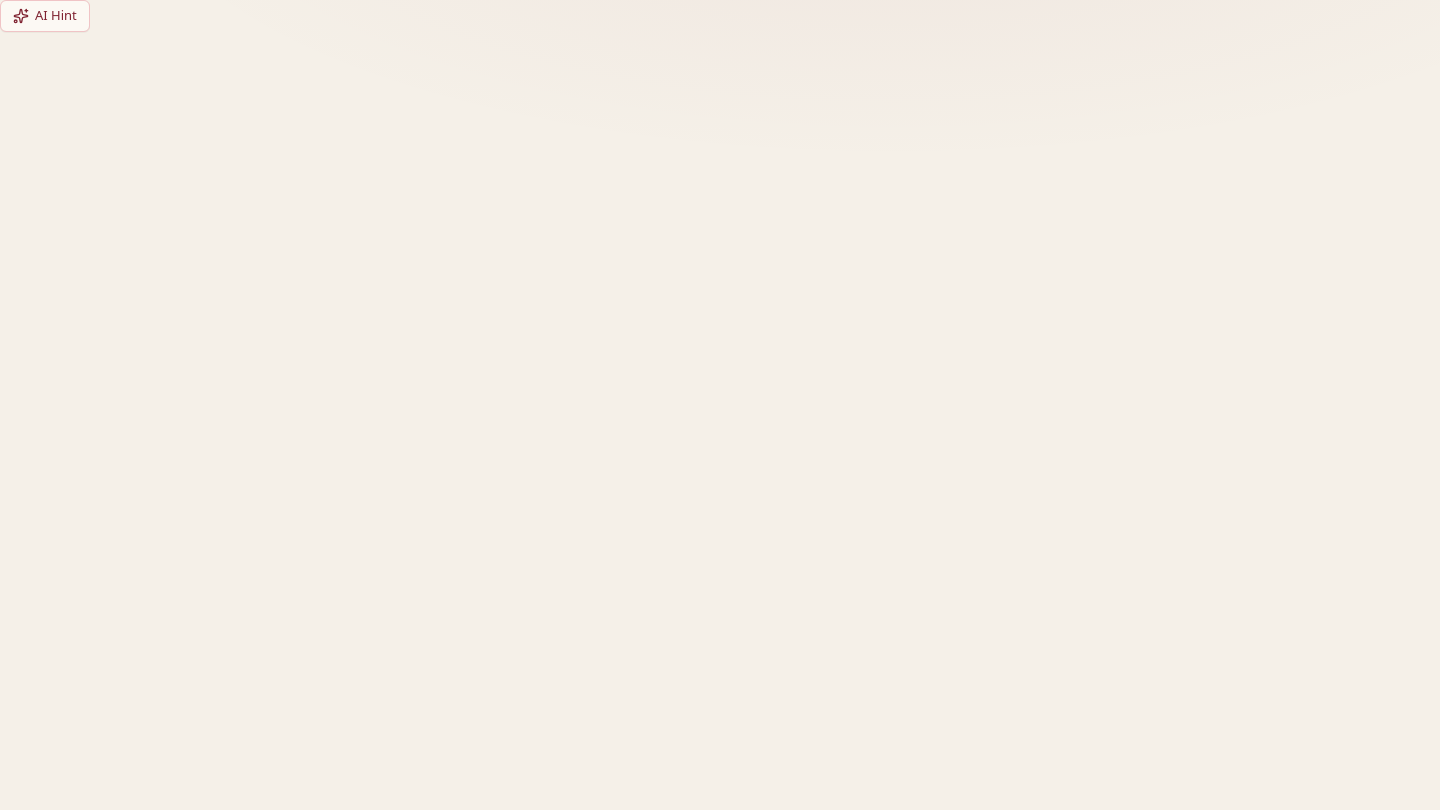
it: a lab’s AI Hint (Phase 7E) › after a failed attempt, sends the lab’s id and the question — nothing else — and shows the hint
Click the button "AI Hint".
click(45, 16)  # box [0, 0, 90, 32]
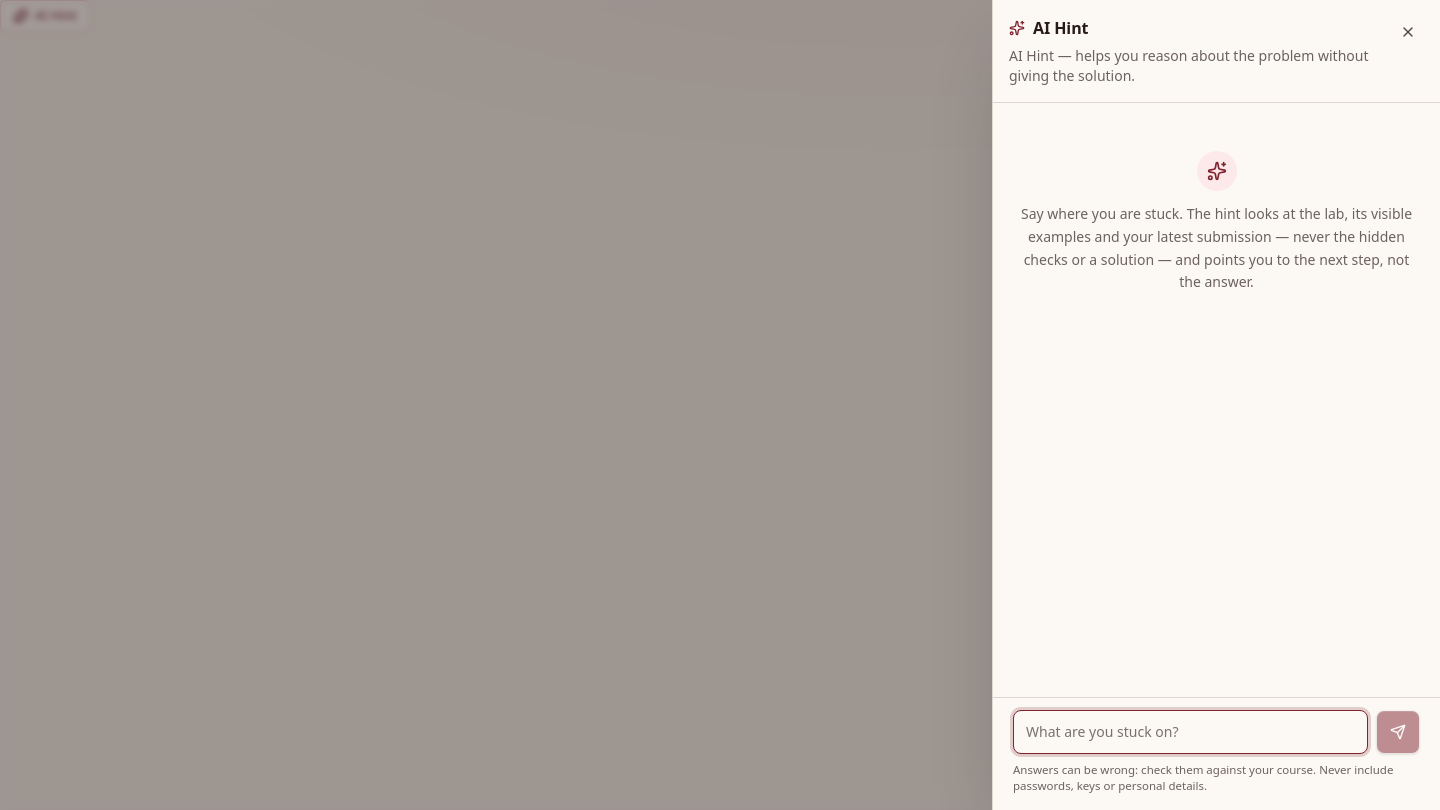
Type "Why is my sum wrong?" into the text box named "What you are stuck on".
click(1190, 732); type("Why is my sum wrong?")  # box [1013, 710, 1368, 754]
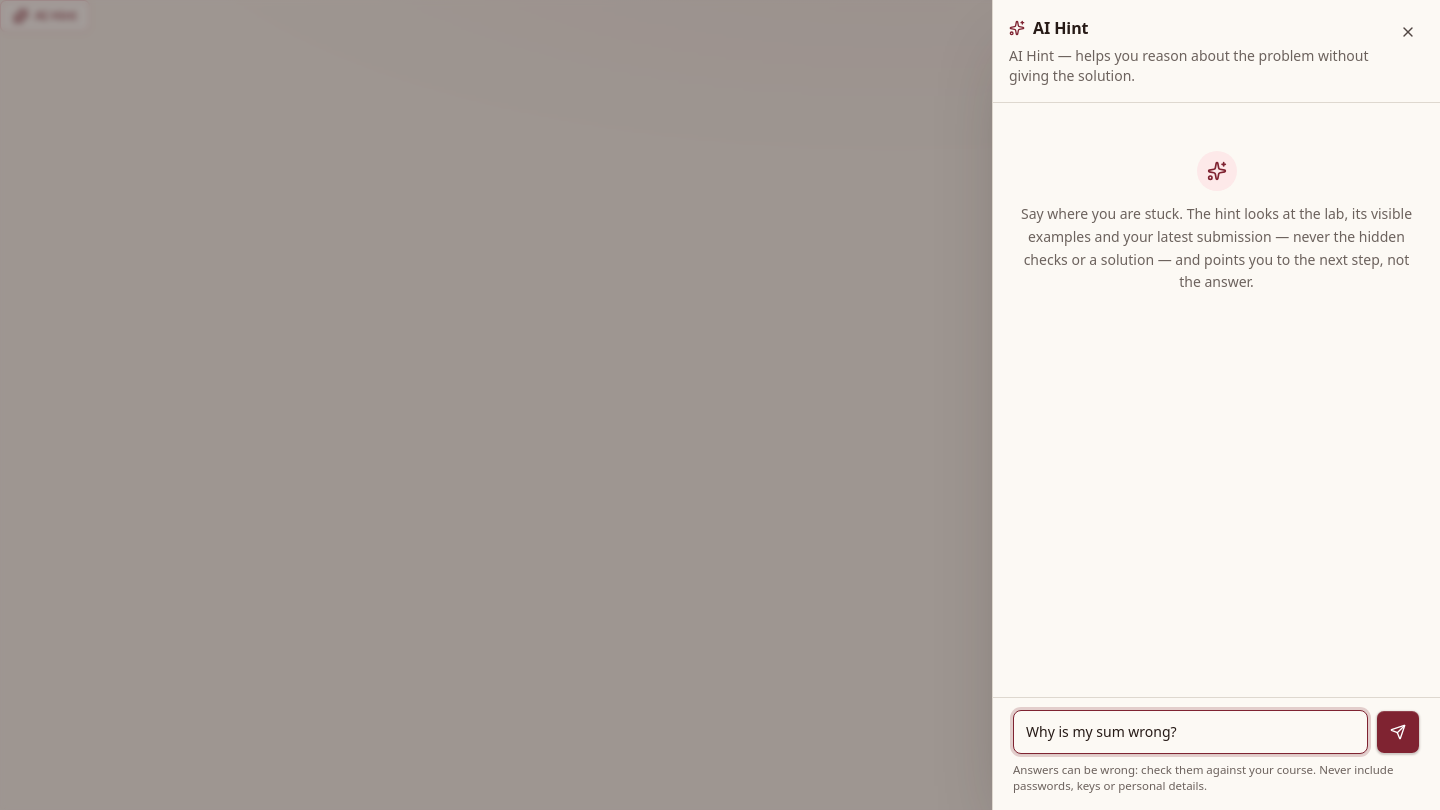
Click the button named "Send".
click(1398, 732)  # box [1376, 710, 1420, 754]
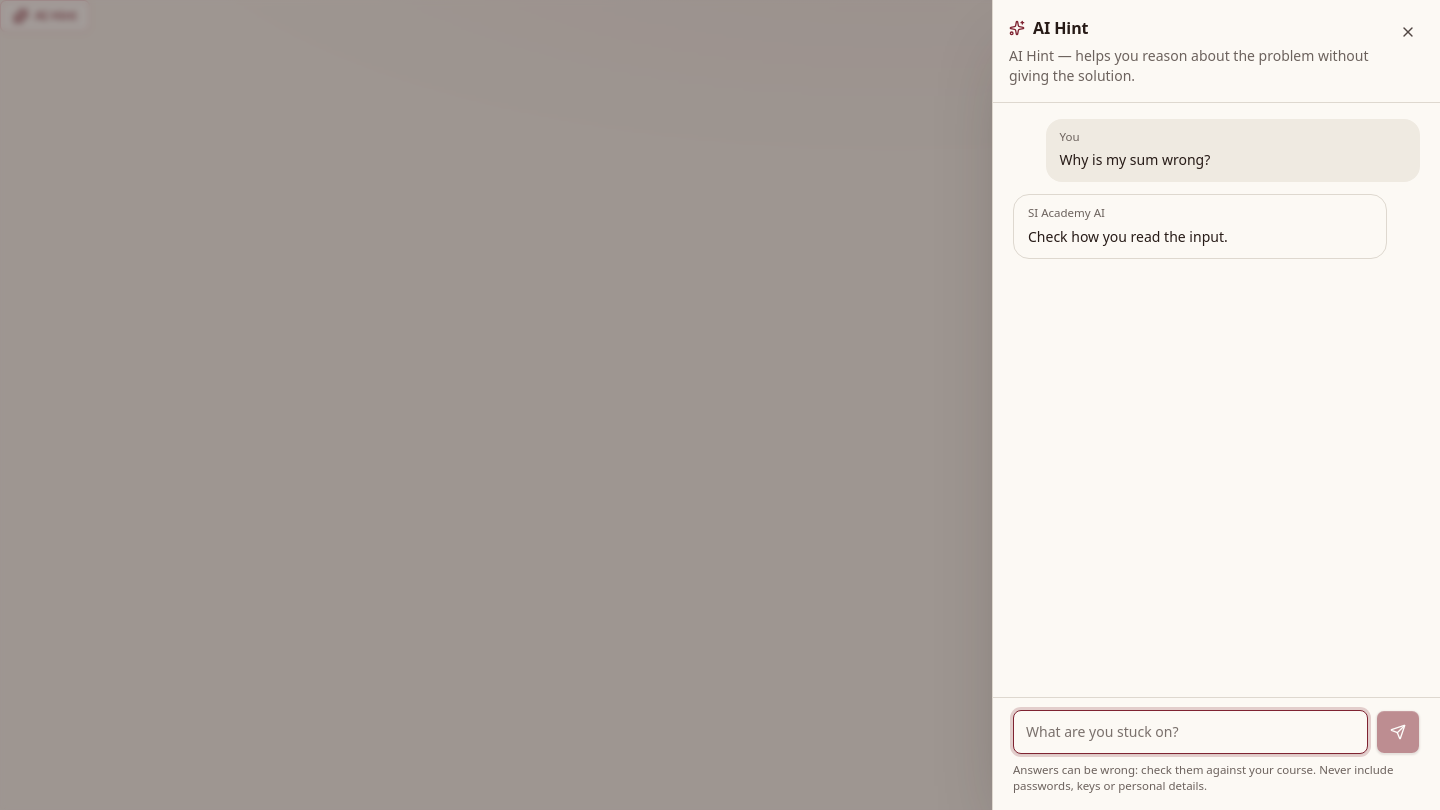
Expected: the text "Check how you read the input." is shown, [1028, 227, 1228, 246]
